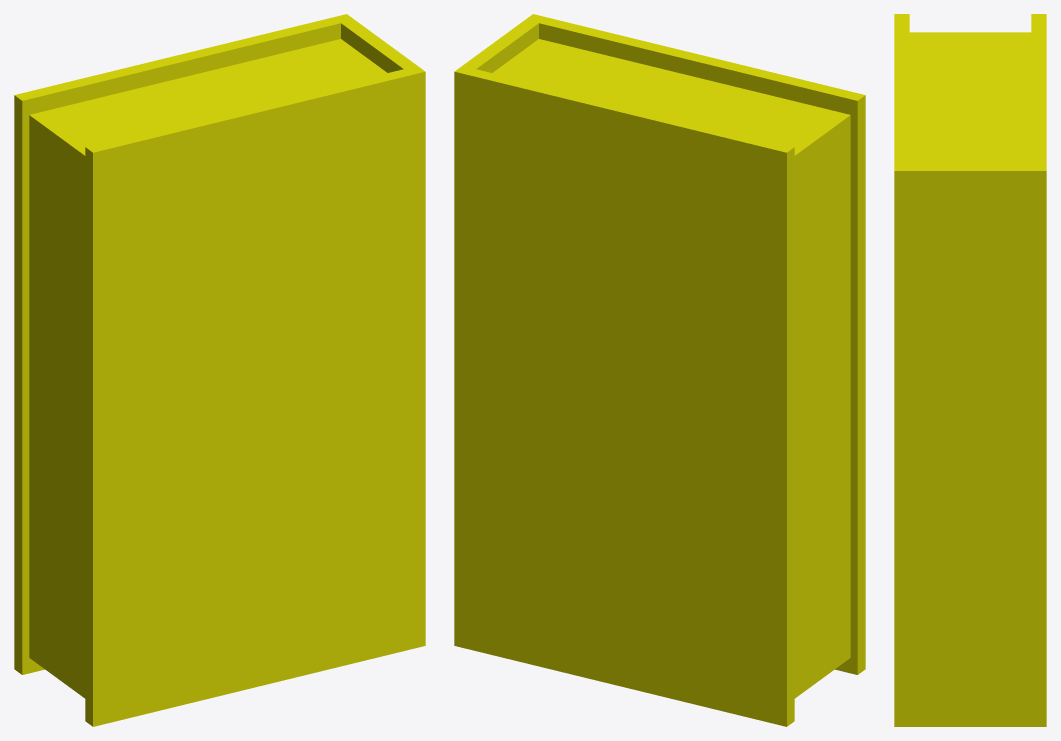
File: re-skin_book.fbx
3 views of the same model, side by side, from view 1: azimuth 30°, elevation 25°; view 2: azimuth 150°, elevation 25°; view 3: azimuth 270°, elevation 25° (orthographic). The views are drawn at different scales.
Parts seen in each view (by area): view 1: Book_21; view 2: Book_21; view 3: Book_21.
Part boxes in pixels (x1,y1,x2,y2): Book_21: [14, 14, 425, 726]; Book_21: [454, 14, 865, 726]; Book_21: [894, 14, 1046, 726].
Size of the model in its own units: 222 by 367 by 91.17.
